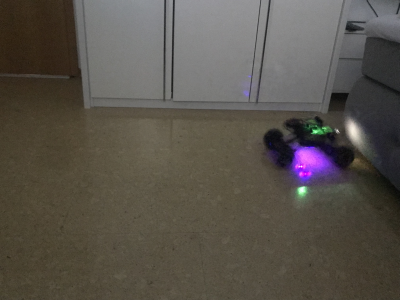remote control car: (261, 110, 355, 171)
